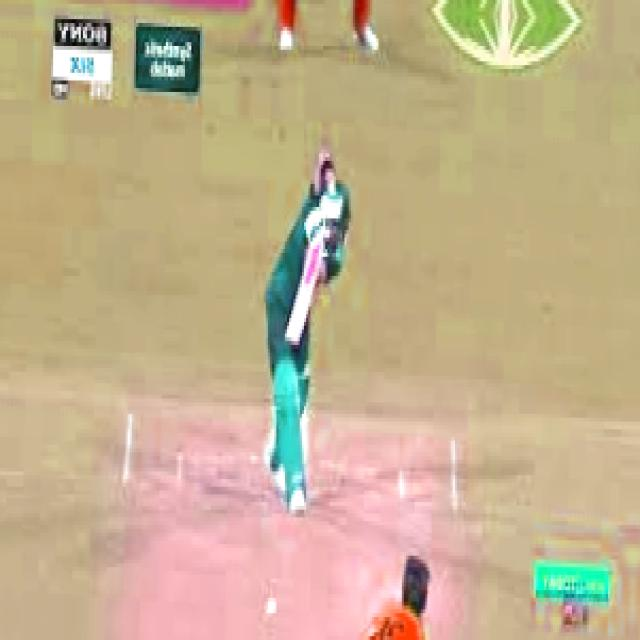toe: (282, 302, 308, 352)
